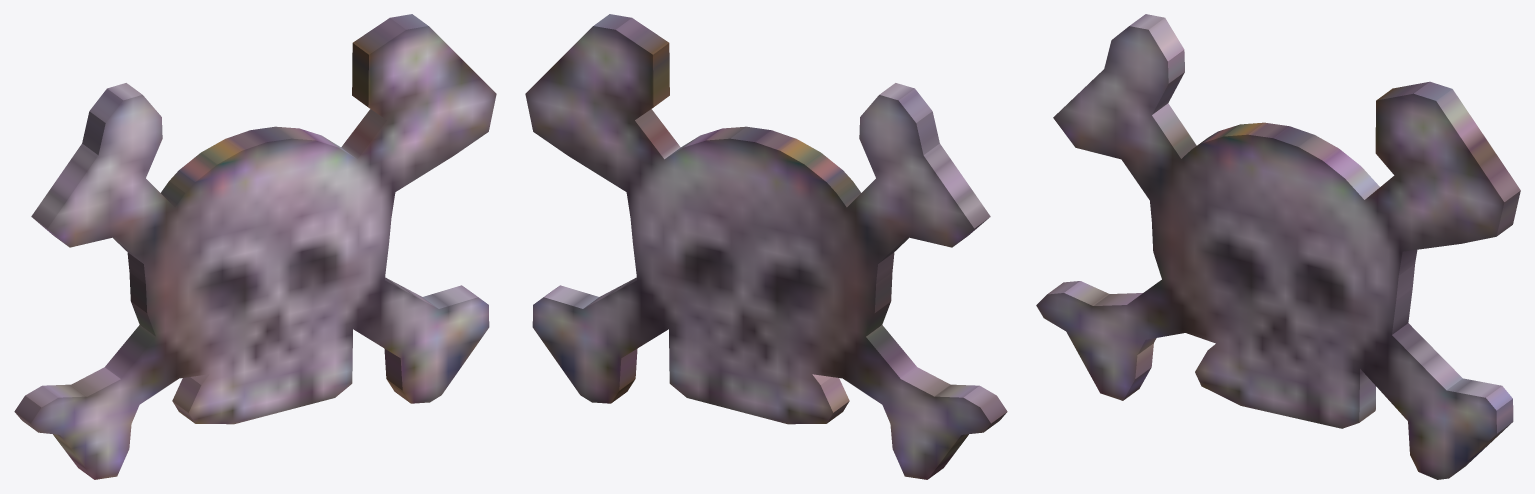
The model's file is Deathrattle.glb.
3 views of the same model, side by side, from view 1: azimuth 30°, elevation 25°; view 2: azimuth 150°, elevation 25°; view 3: azimuth 330°, elevation 25° (orthographic).
Parts seen in each view (by area): view 1: Circle.004; view 2: Circle.004; view 3: Circle.004.
Boxes of the visible parts, box(x1,y1,x2,y2) form: Circle.004: box(14, 14, 496, 479); Circle.004: box(525, 14, 1007, 479); Circle.004: box(1036, 14, 1520, 479).
Bounding box in the file's own units: 1.33 × 1.03 × 0.081.
Materials: 1 (1 with a texture image).
